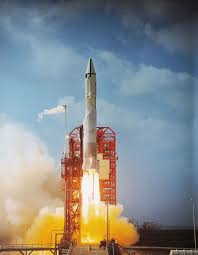ten_lua: (73, 56, 106, 175)
